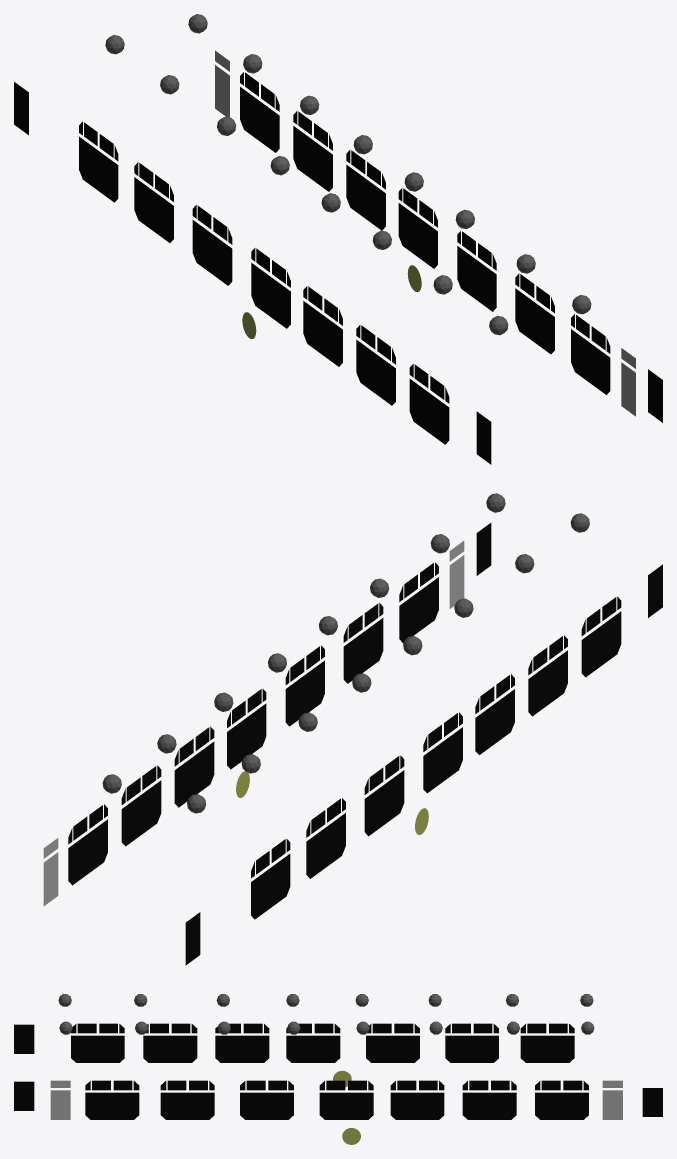
The model's file is lms-period3-cor-composite-windows.dae.
3 renders of one model, top to bottom at view 1: azimuth 30°, elevation 25°; view 2: azimuth 150°, elevation 25°; view 3: azimuth 270°, elevation 25°, orthographic. The views are drawn at different scales.
Visible parts, largest first — view 1: Plane_200, Plane_196, Plane_190, Plane_198, Plane_199, Plane_189, Plane_194, Plane_195, Plane_192, Plane_193, Plane_188, Plane_197 (+7 smaller); view 2: Plane_200, Plane_188, Plane_196, Plane_189, Plane_192, Plane_179, Plane_199, Plane_198, Plane_194, Plane_195, Plane_197, Plane_190 (+6 smaller); view 3: Plane_192, Plane_193, Plane_188, Plane_190, Plane_194, Plane_189, Plane_179, Plane_191, Plane_195, Plane_200, Plane_199, Plane_196 (+8 smaller).
Boxes of the visible parts, box(x1,y1,x2,y2) form: Plane_200: box(409, 364, 449, 444); Plane_196: box(192, 205, 232, 285); Plane_190: box(398, 188, 437, 268); Plane_198: box(303, 286, 342, 366); Plane_199: box(356, 325, 395, 405); Plane_189: box(346, 150, 385, 230); Plane_194: box(79, 121, 118, 202); Plane_195: box(134, 162, 173, 242); Plane_192: box(515, 273, 554, 354); Plane_193: box(571, 314, 610, 394); Plane_188: box(293, 111, 332, 191); Plane_197: box(251, 248, 290, 328); Plane_200: box(581, 596, 621, 677); Plane_188: box(121, 765, 161, 846); Plane_196: box(364, 755, 404, 836); Plane_189: box(174, 726, 214, 807); Plane_192: box(343, 603, 383, 683); Plane_179: box(68, 804, 107, 885); Plane_199: box(528, 635, 567, 716); Plane_198: box(475, 674, 514, 754); Plane_194: box(251, 839, 290, 919); Plane_195: box(306, 798, 345, 878); Plane_197: box(423, 712, 462, 793); Plane_190: box(227, 688, 266, 769); Plane_192: box(160, 1080, 214, 1119); Plane_193: box(85, 1080, 139, 1119); Plane_188: box(462, 1080, 516, 1119); Plane_190: box(319, 1080, 373, 1119); Plane_194: box(520, 1023, 574, 1062); Plane_189: box(390, 1080, 444, 1119); Plane_179: box(535, 1080, 588, 1119); Plane_191: box(240, 1080, 293, 1119); Plane_195: box(445, 1023, 498, 1062); Plane_200: box(71, 1023, 124, 1062); Plane_199: box(143, 1023, 197, 1062); Plane_196: box(366, 1023, 419, 1062).
Bounding box in the file's own units: 2.01 × 9.65 × 1.78.
